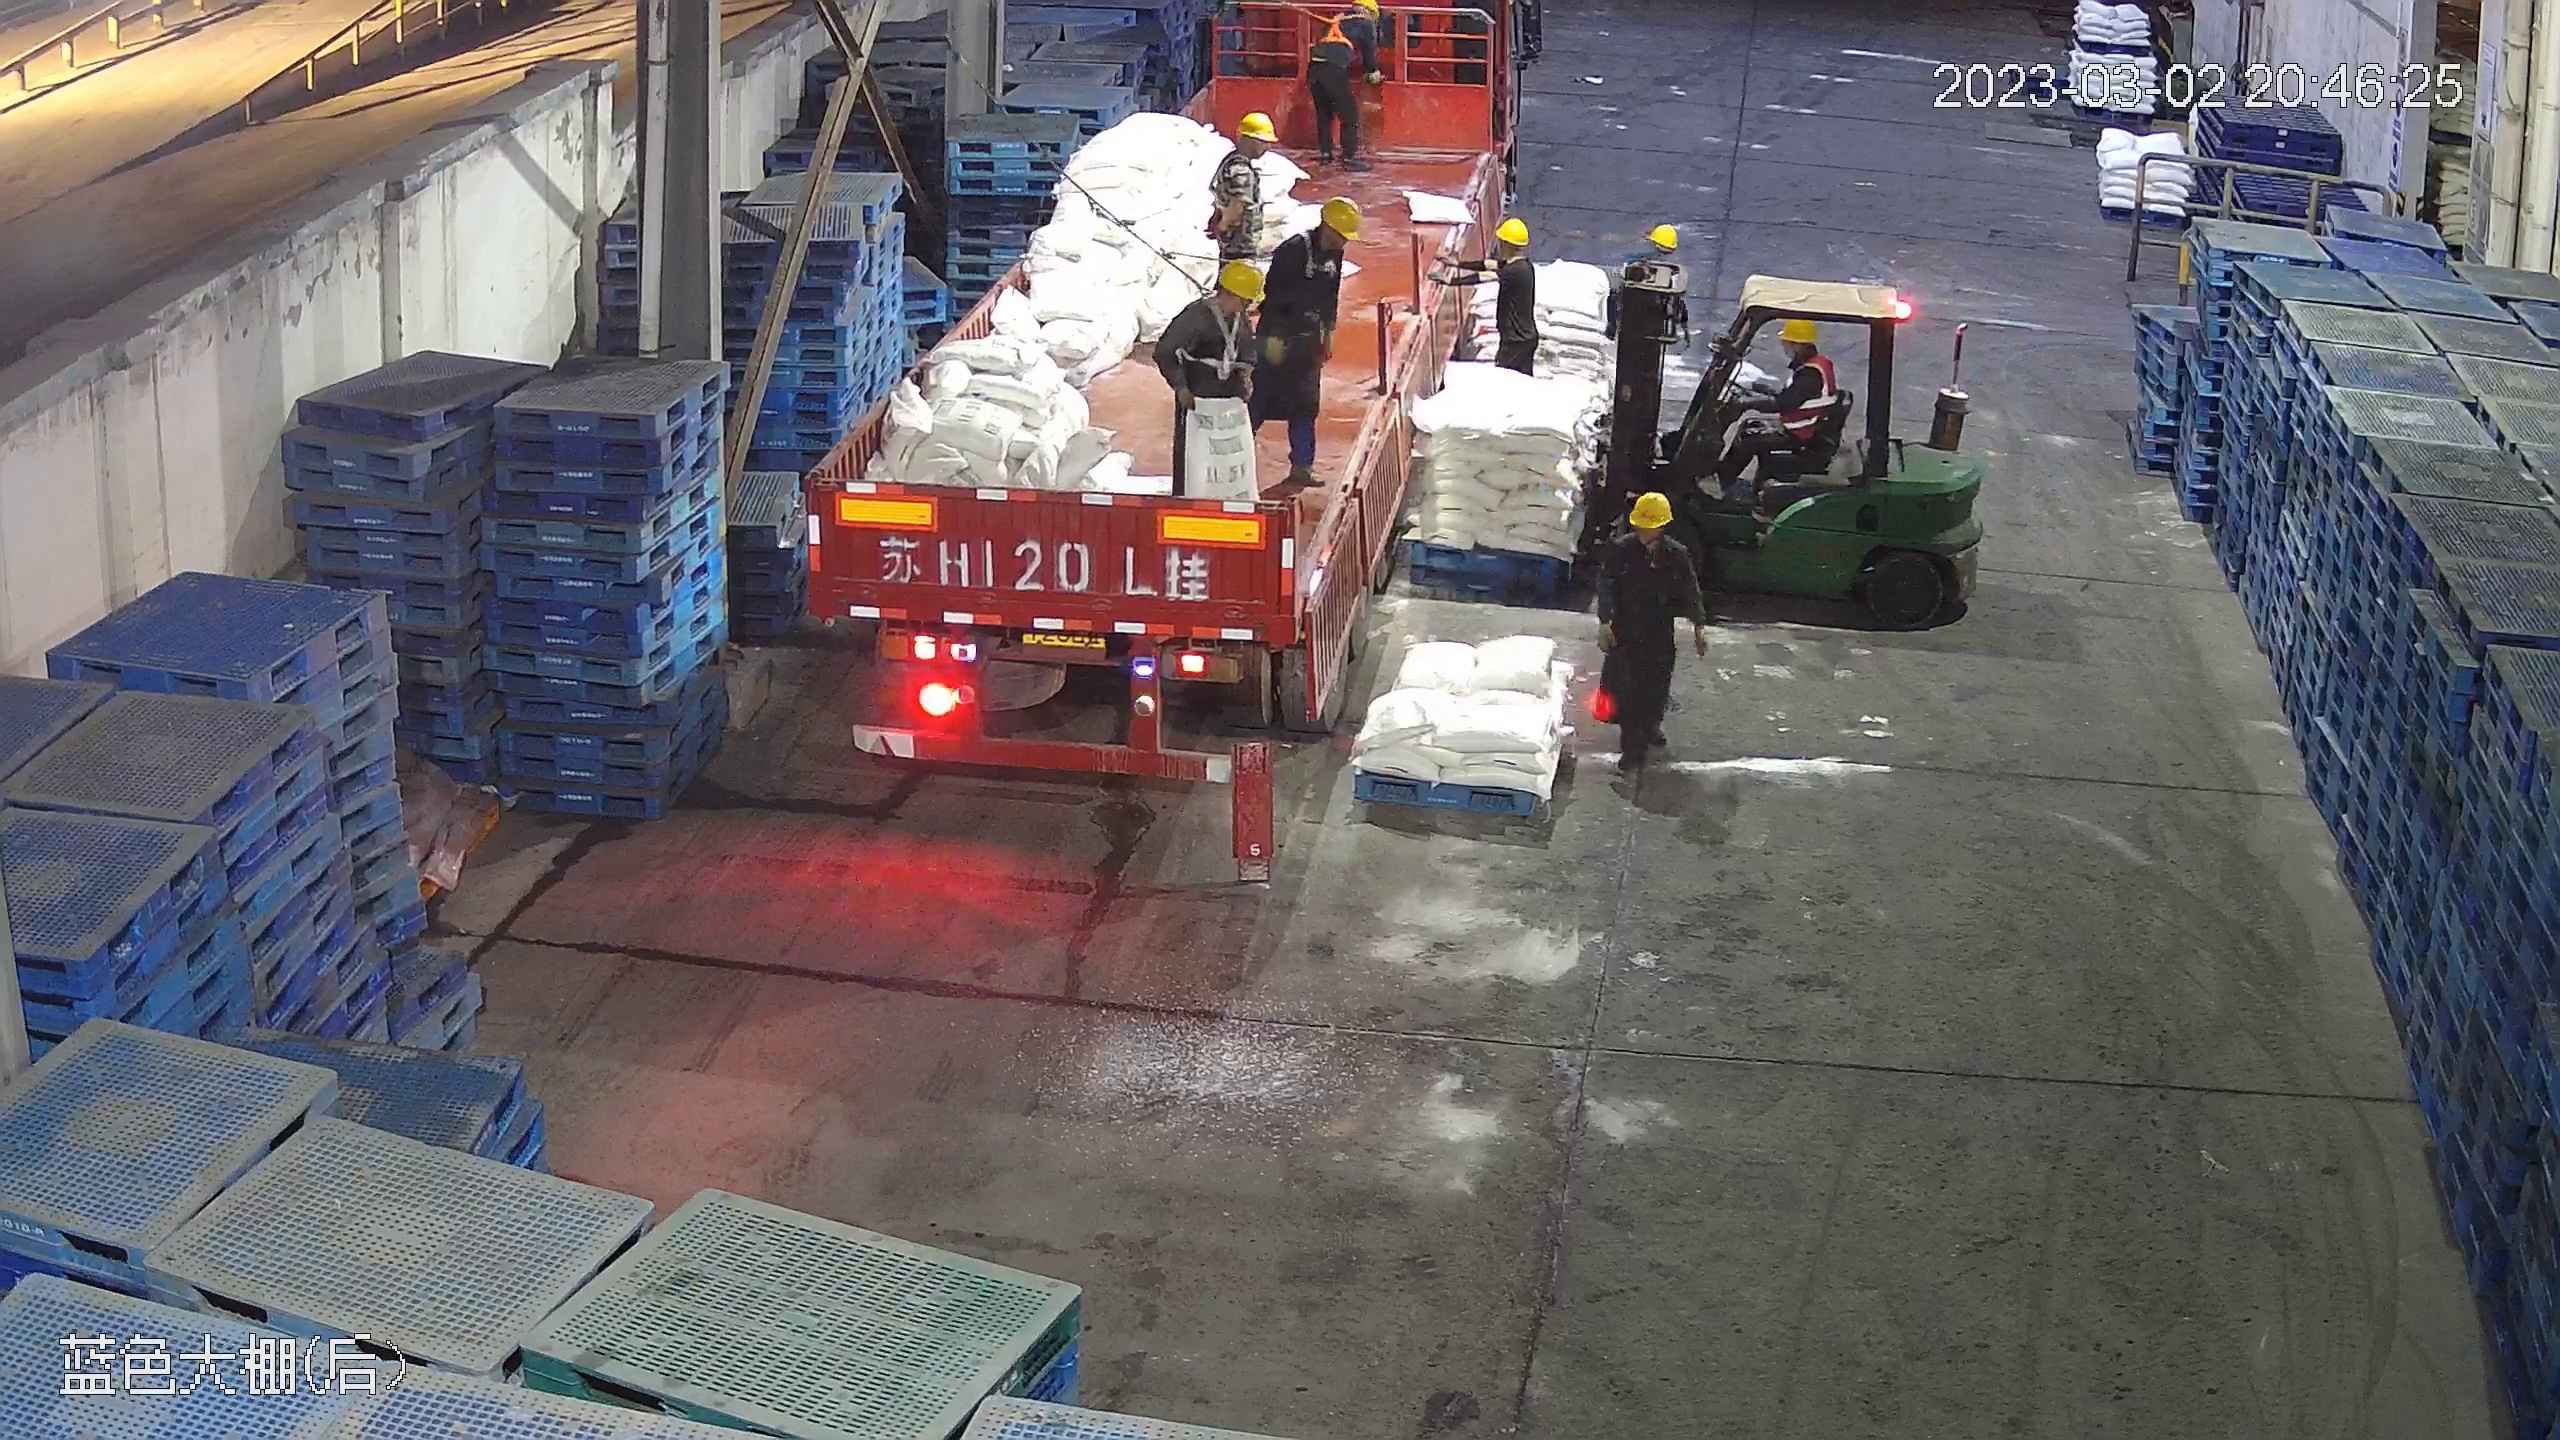belt: (1190, 296, 1255, 374), (1294, 230, 1342, 282), (1206, 150, 1234, 210), (1313, 9, 1354, 48)
head: (1601, 489, 1697, 588), (1174, 256, 1267, 343), (1273, 196, 1360, 280), (1772, 317, 1835, 398), (1218, 109, 1276, 181), (1488, 218, 1537, 293), (1327, 1, 1385, 51)
helmet: (1214, 254, 1262, 300), (1317, 196, 1362, 239), (1629, 488, 1674, 527), (1234, 110, 1274, 138), (1495, 217, 1531, 244), (1777, 318, 1816, 343), (1649, 223, 1680, 246), (1353, 1, 1379, 20)
people: (1590, 486, 1711, 784), (1251, 195, 1359, 479), (1162, 256, 1269, 497), (1705, 317, 1840, 504), (1601, 212, 1685, 473), (1304, 7, 1381, 169), (1206, 109, 1279, 266), (1486, 219, 1541, 378)
truck: (811, 15, 1488, 773)
